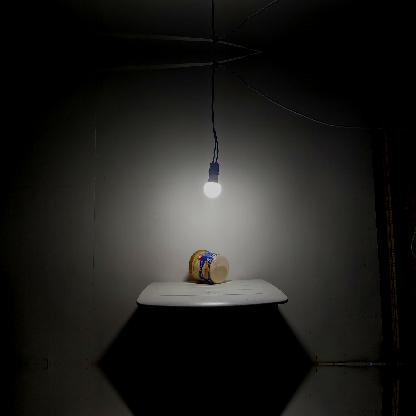Lady-s-Choice: (187, 248, 229, 284)
